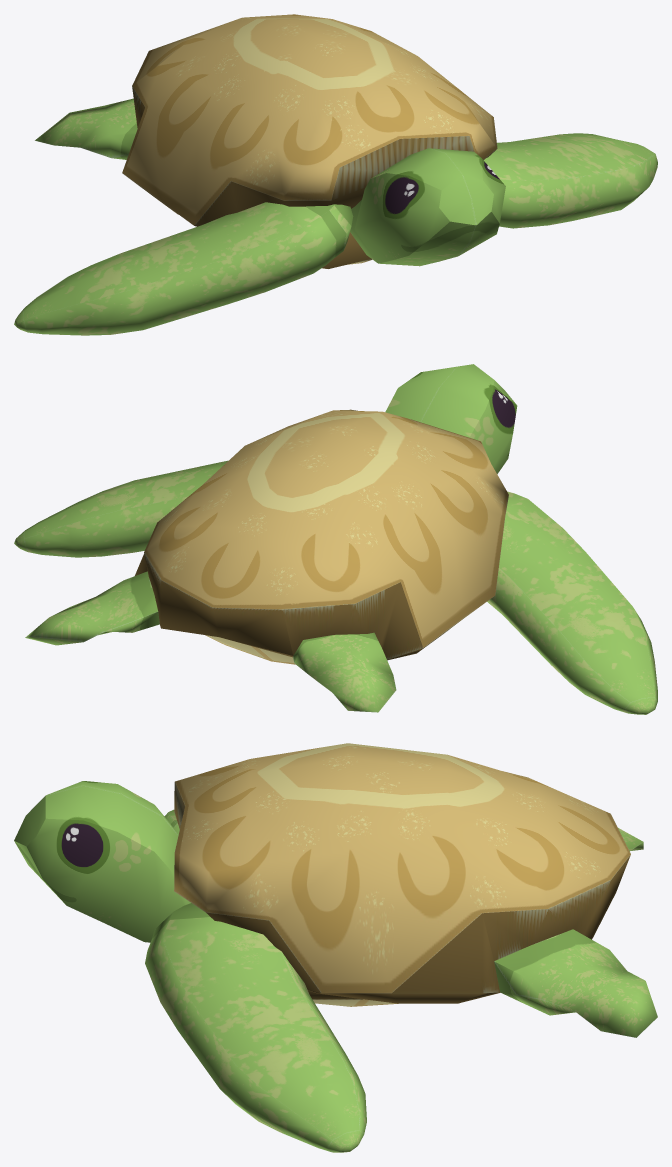
The model's file is Turtle.fbx.
3 renders of one model, top to bottom at view 1: azimuth 30°, elevation 25°; view 2: azimuth 150°, elevation 25°; view 3: azimuth 270°, elevation 25°, orthographic. The views are drawn at different scales.
Visible parts, largest first — view 1: Turtle; view 2: Turtle; view 3: Turtle.
Boxes of the visible parts, <box> form: Turtle: <box>14,14,657,335</box>; Turtle: <box>14,364,657,714</box>; Turtle: <box>14,743,657,1152</box>.
Bounding box in the file's own units: 110 × 34.8 × 85.64.
3 materials, 3 textured.
